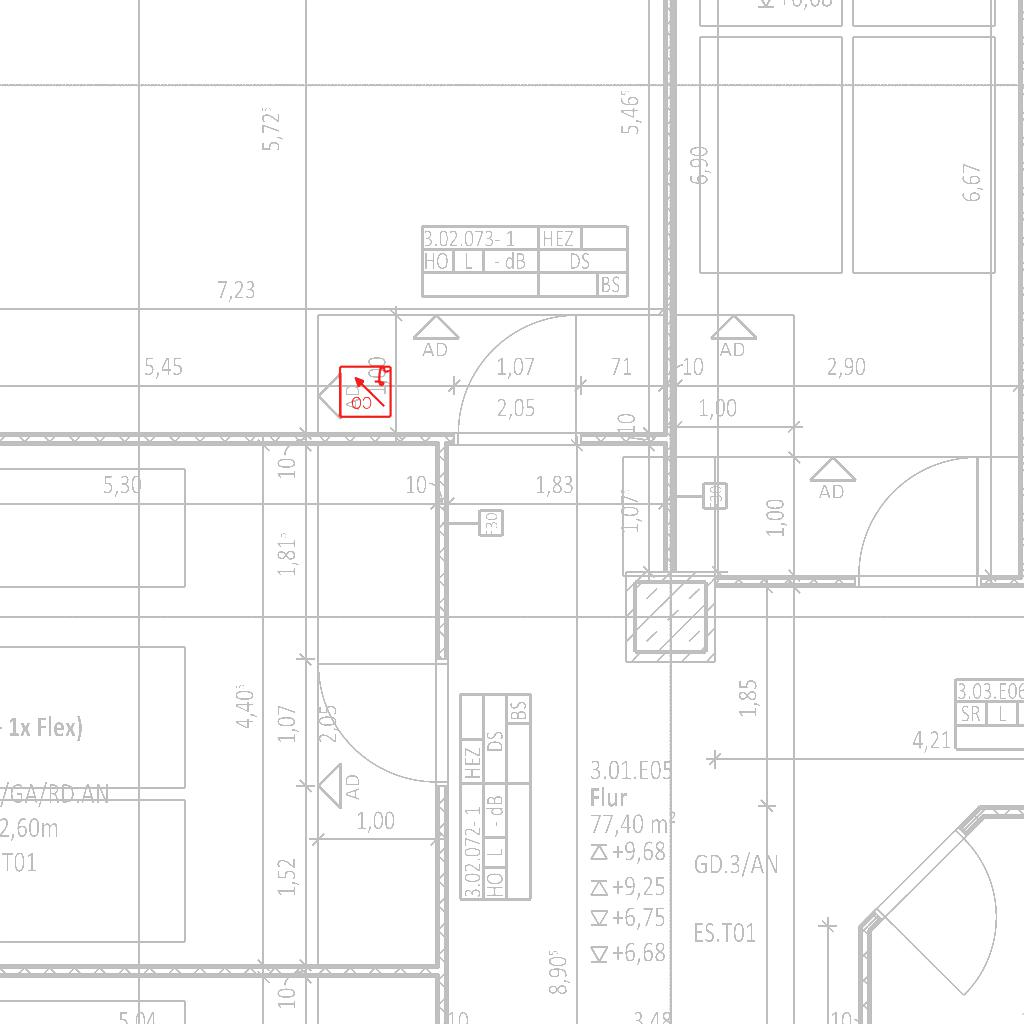ROA_Rauchmelder_optisch_mit_Signalgeber_(Sockelsirene): (337, 363, 393, 419)
